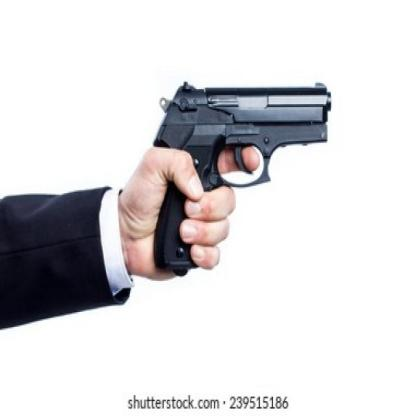handgun: (151, 80, 330, 273)
